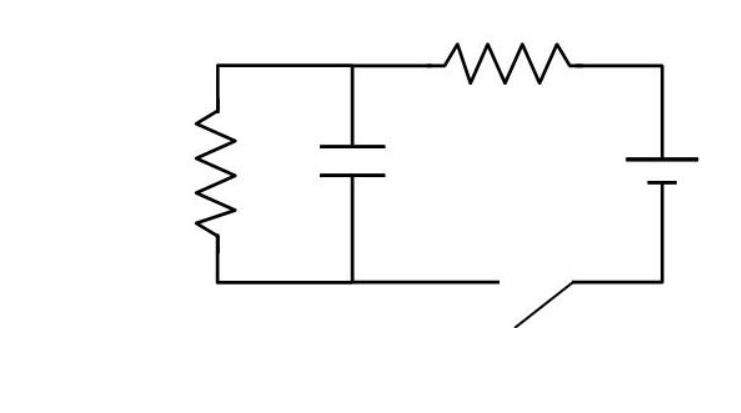resistor: (413, 23, 594, 106), (181, 87, 240, 257)
